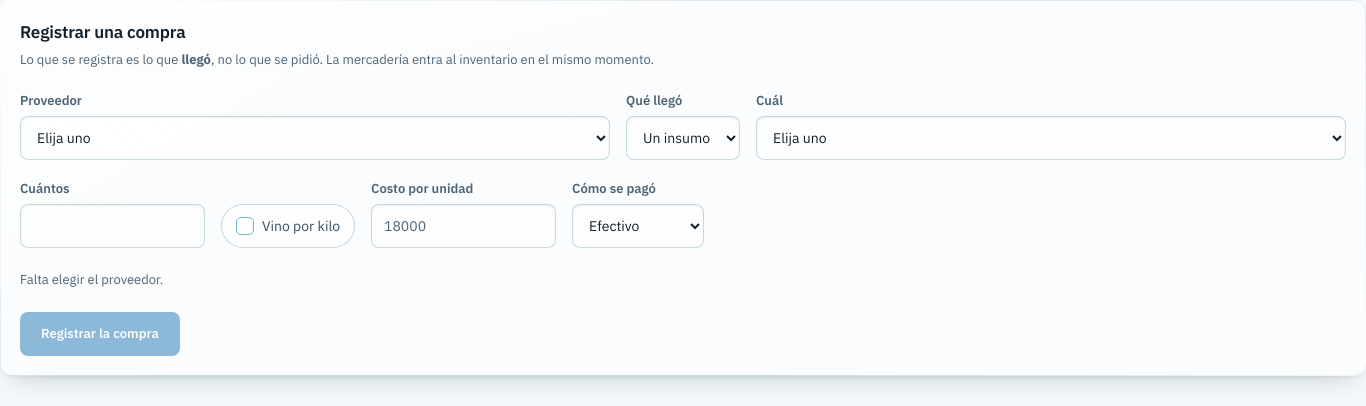
Test: RegistrarCompra — una línea compra una sola cosa › «Vino por kilo» solo existe para insumos
This screenshot has width=1366, height=406.
Check: the checkbox labelled "Vino por kilo" is shown, box [221,204,355,248]
Select "Bases" in the dropdown labelled "Qué llegó" at [683, 138], box [626,116,740,160]
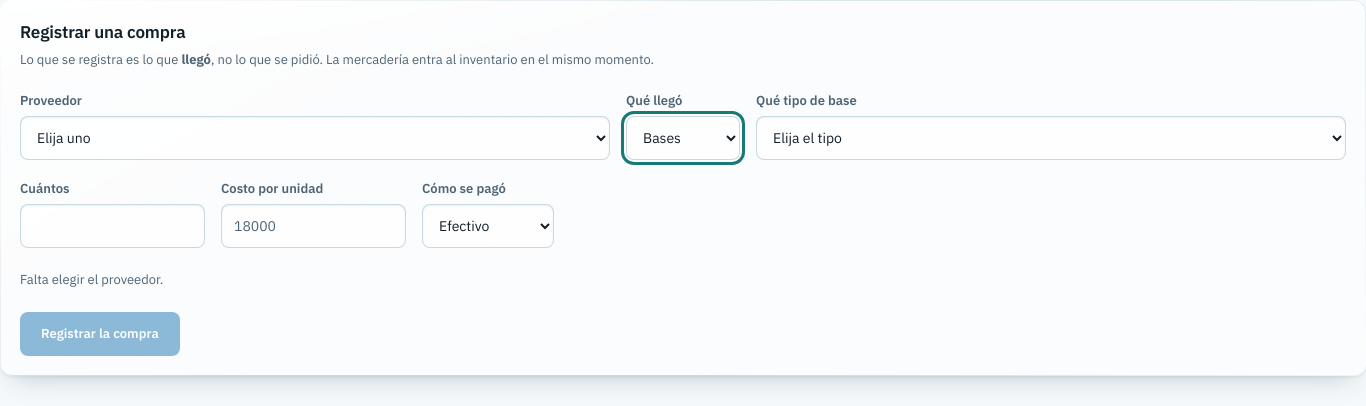
Check: the checkbox labelled "Vino por kilo" is gone
